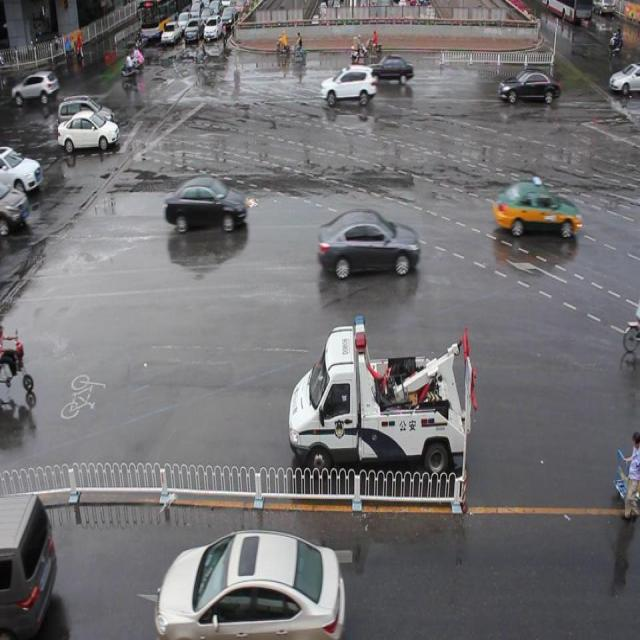car: (316, 208, 419, 278), (491, 180, 580, 238), (163, 176, 248, 232), (318, 64, 376, 109), (498, 67, 561, 106), (363, 54, 414, 85)
